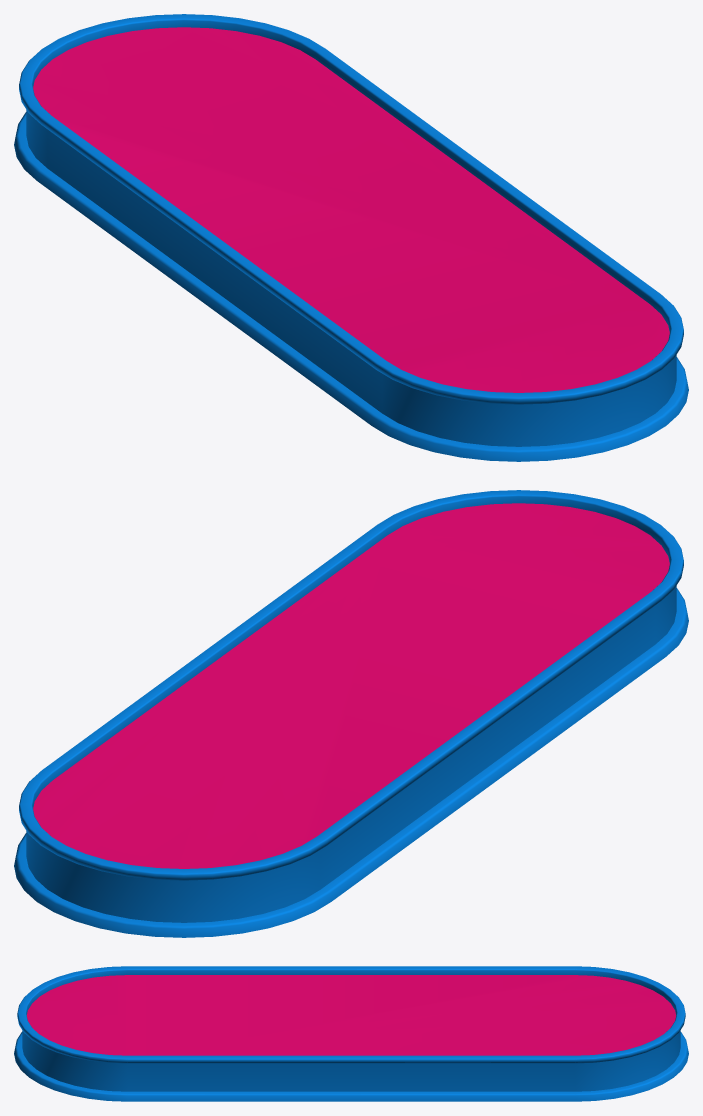
Rendered from Flower_Pot_1.FBX.
3 renders of one model, top to bottom at view 1: azimuth 30°, elevation 25°; view 2: azimuth 150°, elevation 25°; view 3: azimuth 270°, elevation 25°, orthographic. The views are drawn at different scales.
Visible parts, largest first — view 1: flower_pot; view 2: flower_pot; view 3: flower_pot.
Boxes of the visible parts, <box> form: flower_pot: <box>14,14,688,461</box>; flower_pot: <box>14,490,688,937</box>; flower_pot: <box>14,966,688,1101</box>.
Bounding box in the file's own units: 553 × 111 × 1641.
